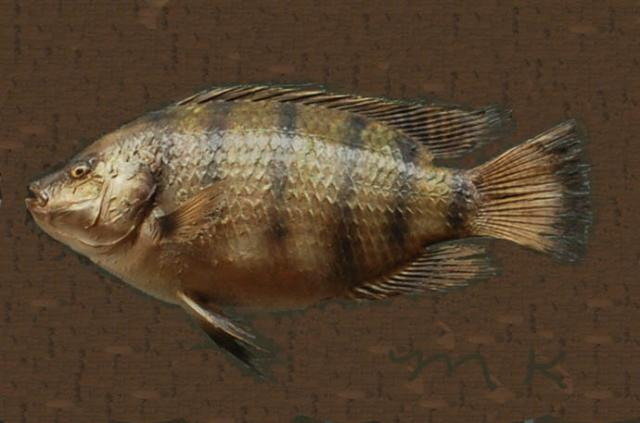Mulut: (12, 163, 64, 235)
Sirip Anal: (339, 230, 516, 320)
Sirip Dada: (139, 176, 249, 254)
Sirip Ekor: (460, 108, 604, 276)
Sirip Perut: (168, 286, 294, 390)
Sirip Punggung: (167, 67, 521, 171)
